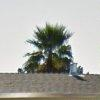Tree: (19, 15, 77, 75)
